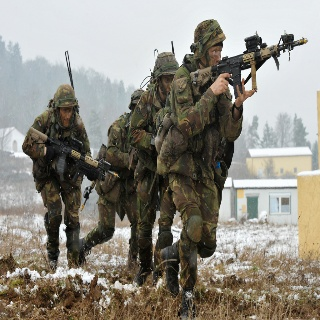rifle: (189, 32, 307, 98), (27, 127, 121, 181)
